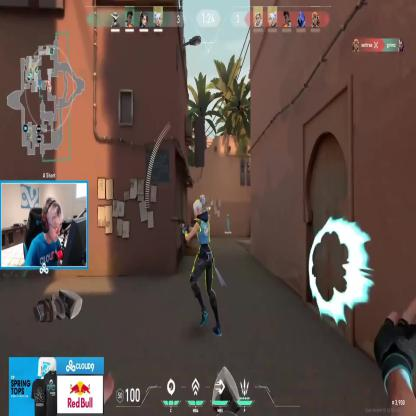enemy: (181, 194, 221, 336)
enemy_head: (192, 195, 206, 219)
